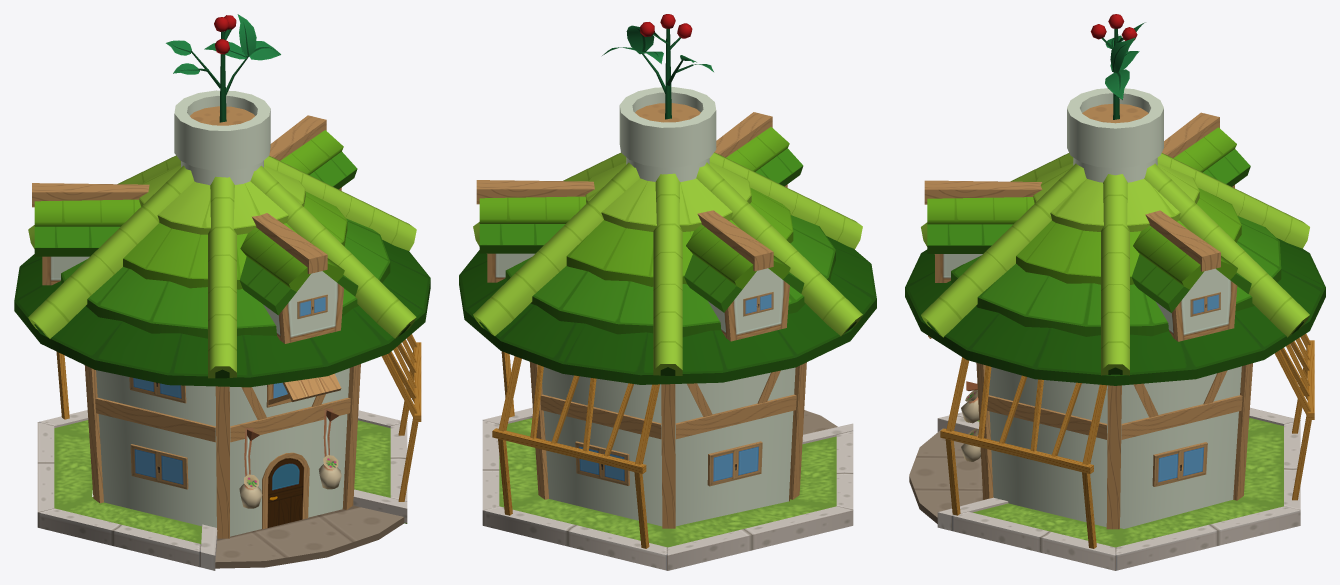
The model's file is building_Herbal_lv5.FBX.
3 views of the same model, side by side, from view 1: azimuth 30°, elevation 25°; view 2: azimuth 150°, elevation 25°; view 3: azimuth 270°, elevation 25° (orthographic).
Parts seen in each view (by area): view 1: building_Herbal_roof_lv5, building_Herbal_lv5, building_Herbal_main_lv5, building_Herbal_plant_lv5; view 2: building_Herbal_roof_lv5, building_Herbal_lv5, building_Herbal_main_lv5, building_Herbal_plant_lv5; view 3: building_Herbal_roof_lv5, building_Herbal_lv5, building_Herbal_main_lv5, building_Herbal_plant_lv5.
Part boxes in pixels (left/top/right/bottom): building_Herbal_roof_lv5: left=14, top=130, right=430, bottom=387; building_Herbal_lv5: left=32, top=115, right=421, bottom=570; building_Herbal_main_lv5: left=96, top=90, right=349, bottom=536; building_Herbal_plant_lv5: left=166, top=14, right=280, bottom=122; building_Herbal_roof_lv5: left=459, top=127, right=876, bottom=384; building_Herbal_lv5: left=476, top=112, right=853, bottom=570; building_Herbal_main_lv5: left=542, top=87, right=795, bottom=526; building_Herbal_plant_lv5: left=602, top=14, right=713, bottom=119; building_Herbal_roof_lv5: left=905, top=127, right=1325, bottom=385; building_Herbal_lv5: left=909, top=112, right=1314, bottom=570; building_Herbal_main_lv5: left=989, top=88, right=1241, bottom=528; building_Herbal_plant_lv5: left=1090, top=14, right=1145, bottom=119.
Bounding box in the file's own units: 609 × 728 × 581.
